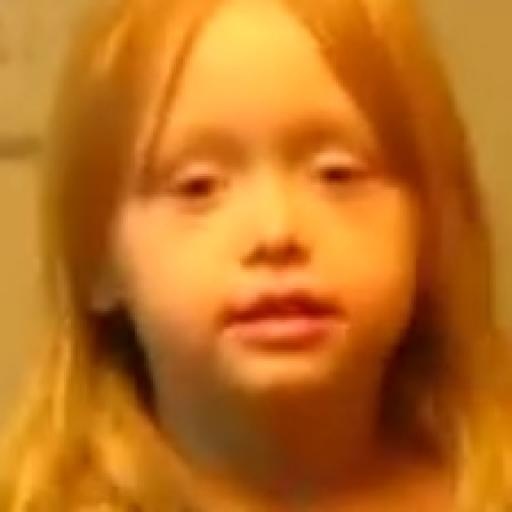Autism: (94, 25, 491, 512)
